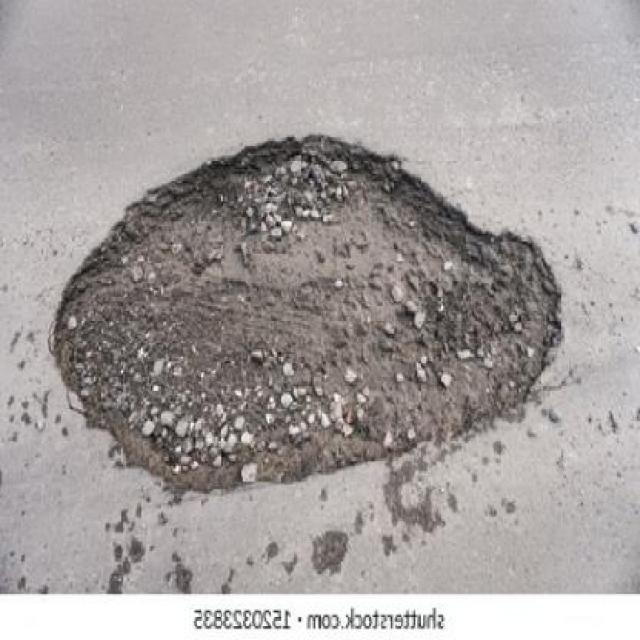pothole: (20, 80, 588, 551)
